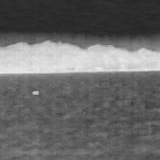Target: (31, 90, 40, 96)
